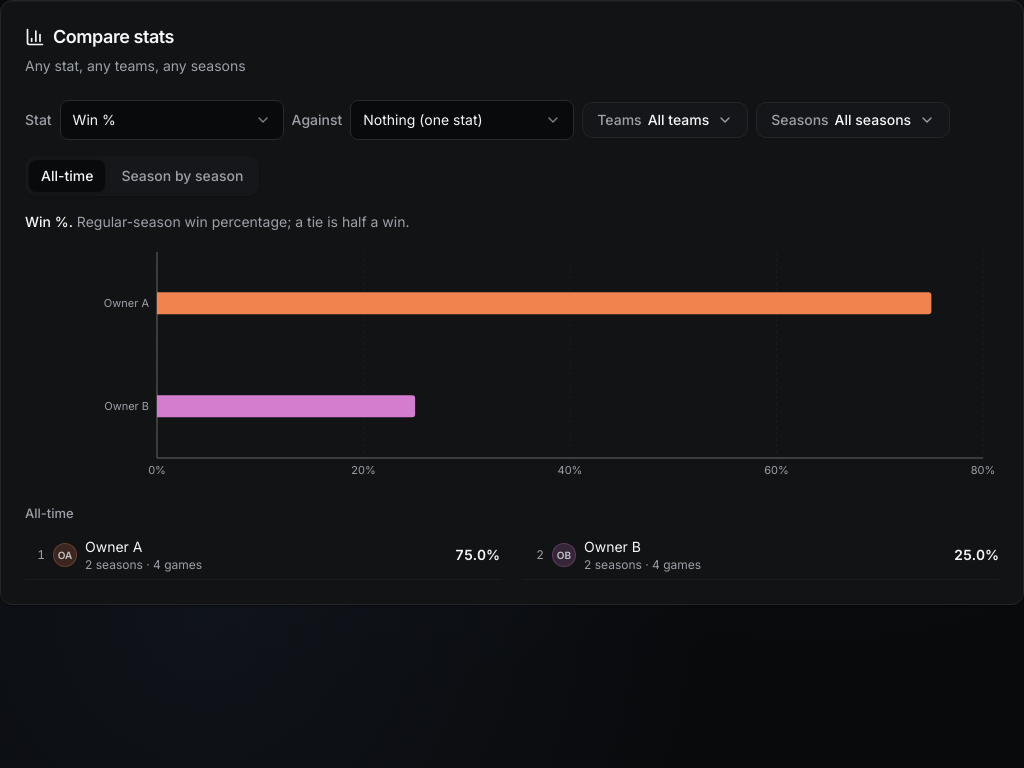
Test: StatComparison › offers a per-season average for a count over several seasons
Click the dropdown named "Stat".
click(172, 120)  # box [60,100,284,140]
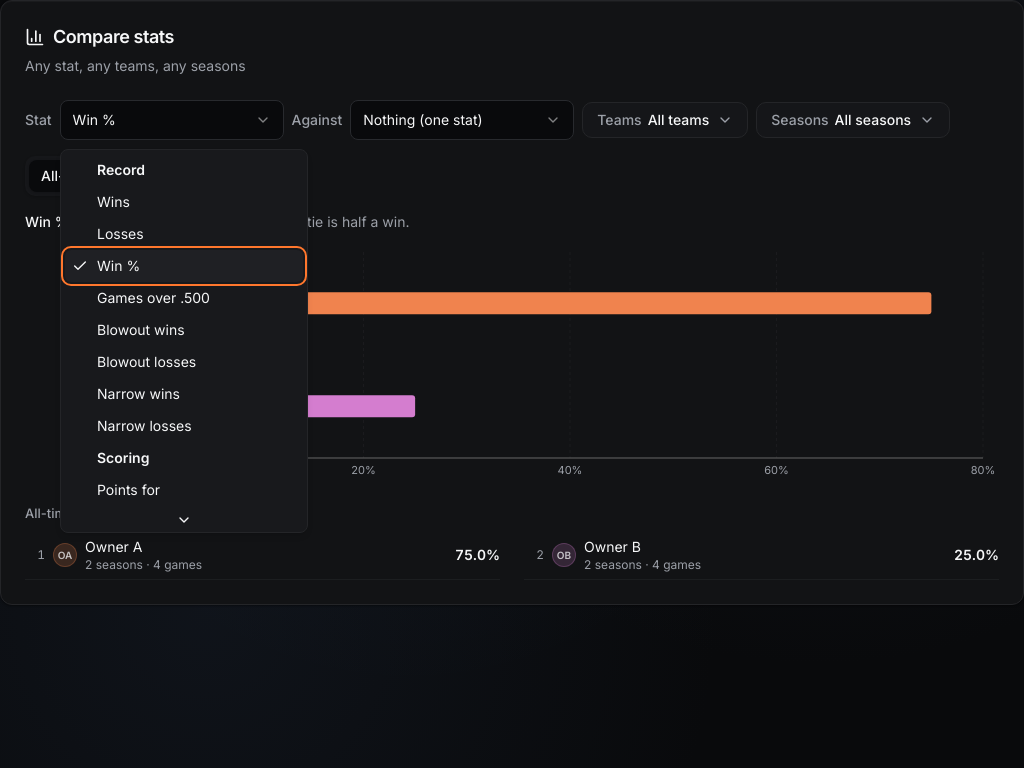
Click the option "Wins".
click(113, 202)  # box [97,193,130,210]
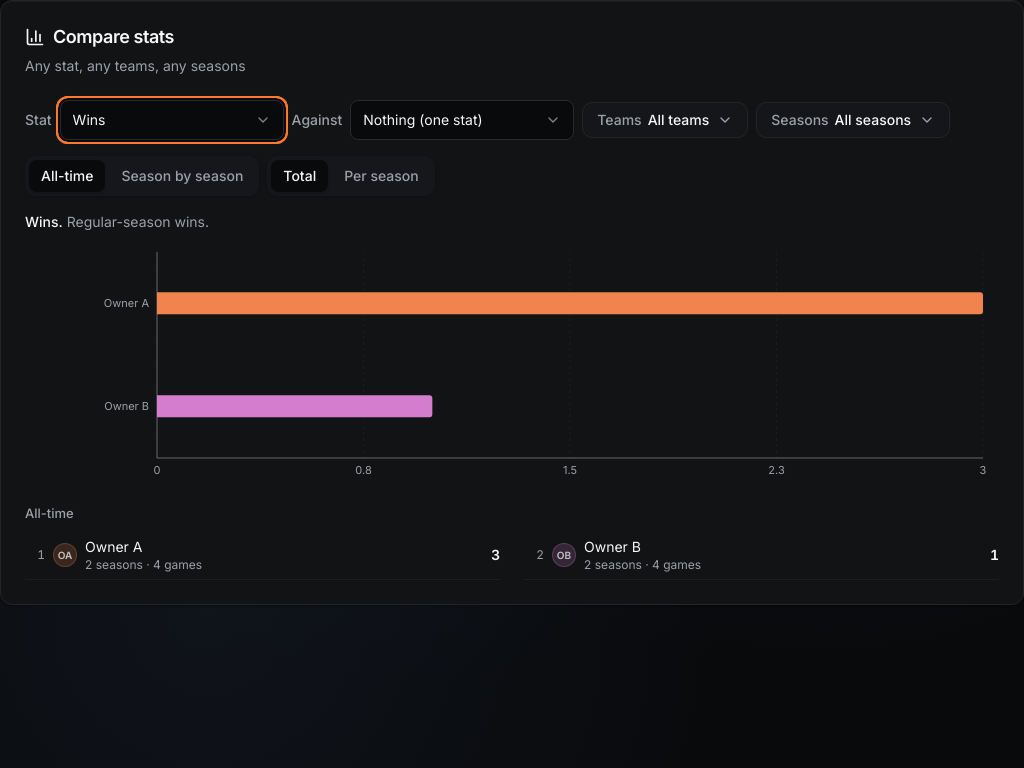
Now the list item "1 OA Owner A 2 seasons · 4 games 3" is shown, box [25,531,500,580]
Click the tab "Per season".
click(381, 176)  # box [332,160,431,192]
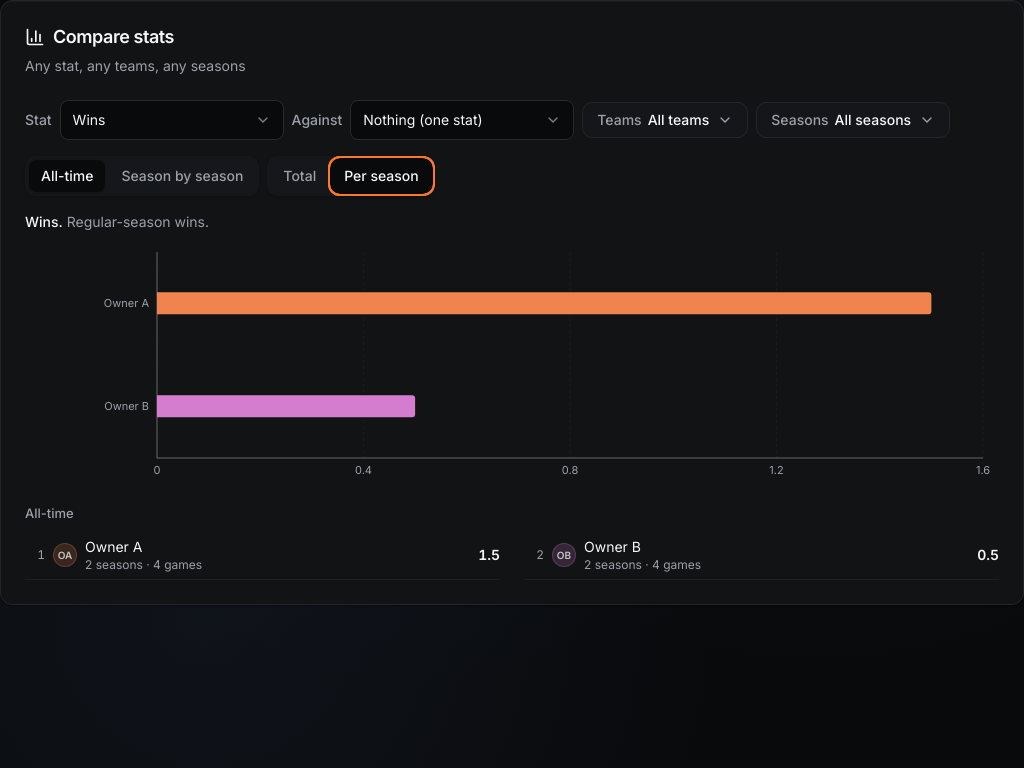
Now the list item "1 OA Owner A 2 seasons · 4 games 1.5" is shown, box [25,531,500,580]
